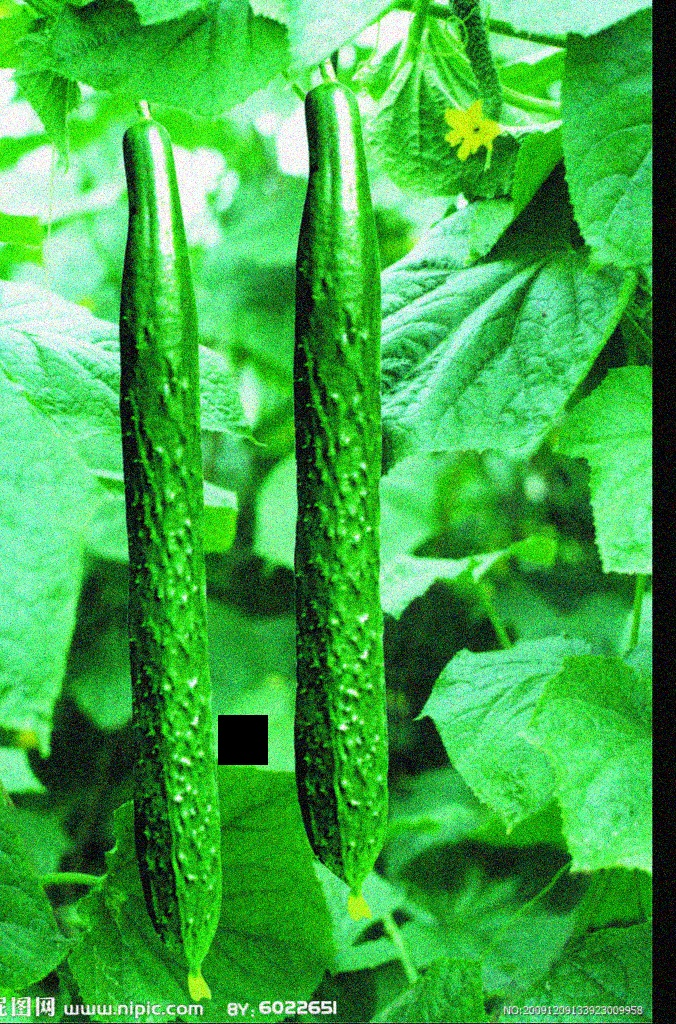cucumber: (120, 122, 230, 977), (292, 82, 398, 898)
cucumber_plant: (401, 41, 641, 432)
